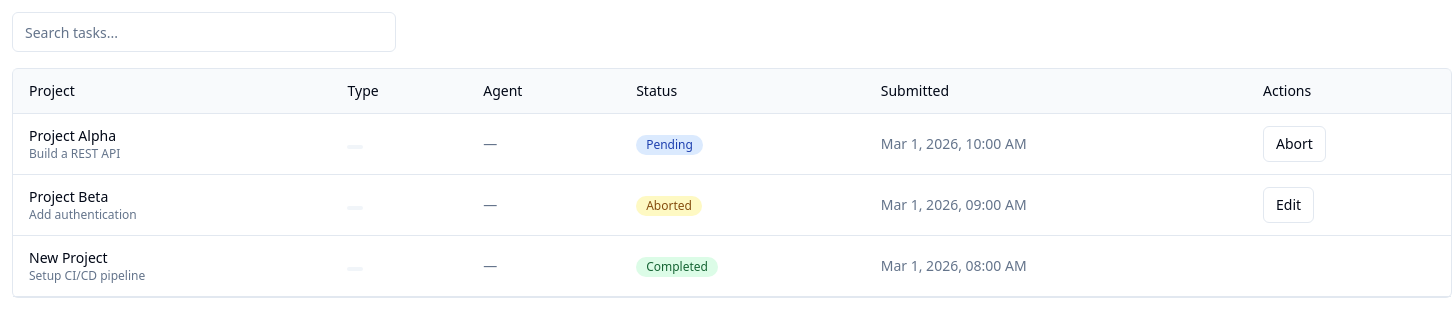
Scenario: TaskTable › filters rows by requirements text when search is used
In the field with placeholder "Search tasks...": (204, 32) [12, 12, 396, 52], type "REST API"
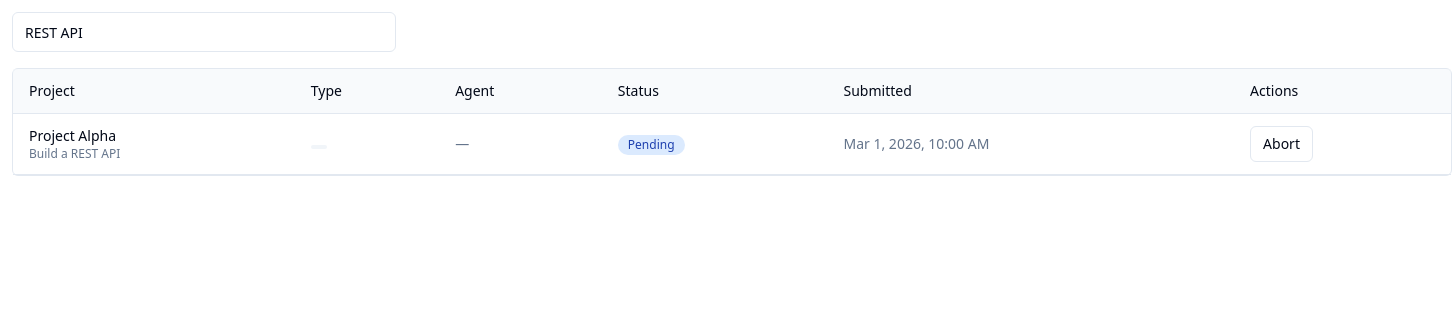
Expected: the text "Build a REST API" is shown, [29, 145, 120, 162]
Result: the link "Add authentication" is gone
Result: the link "Setup CI/CD pipeline" is gone
